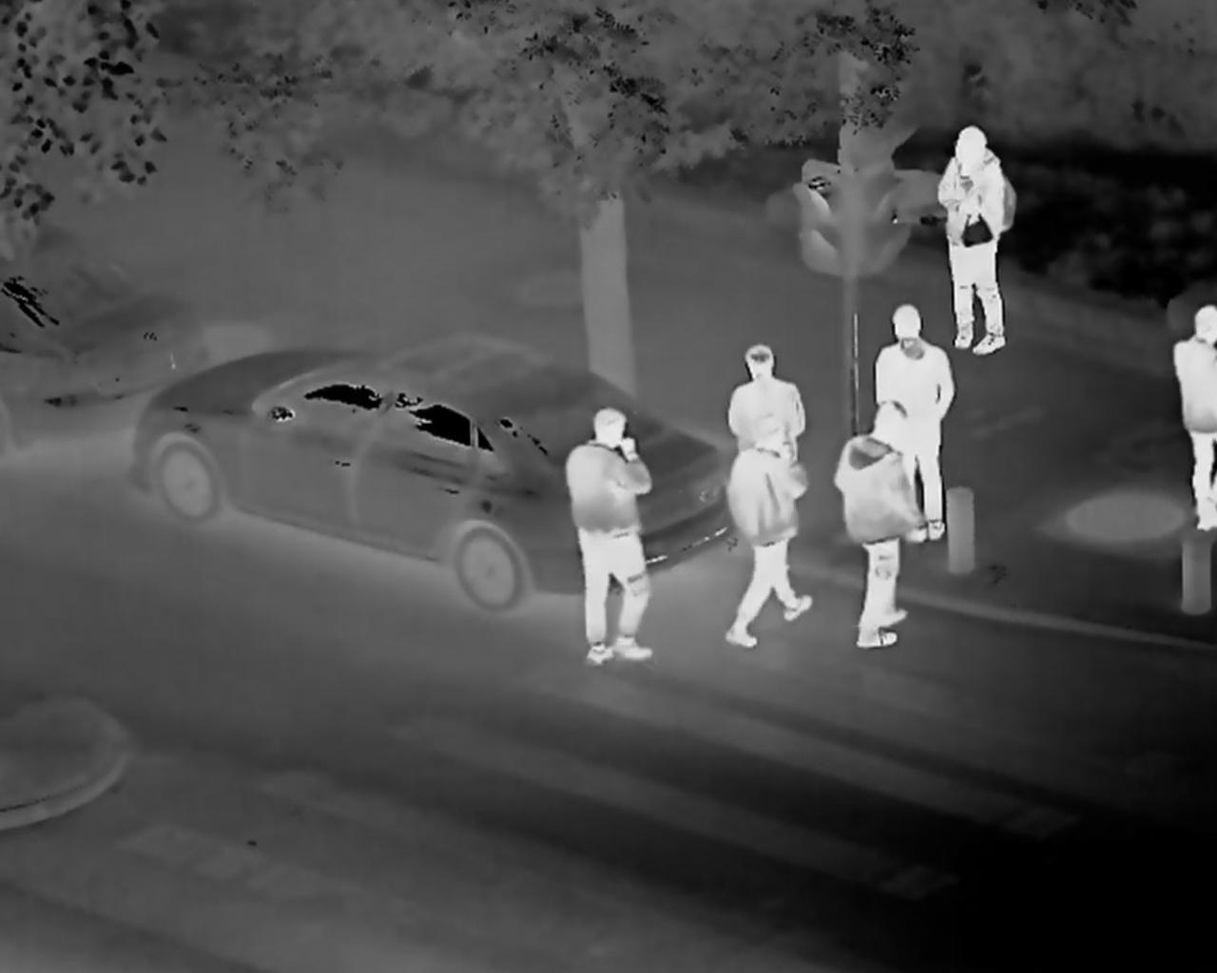person: (557, 396, 665, 673), (831, 396, 928, 670), (859, 296, 958, 562), (715, 419, 817, 667), (937, 113, 1019, 366), (720, 330, 816, 512), (1161, 294, 1217, 551)
